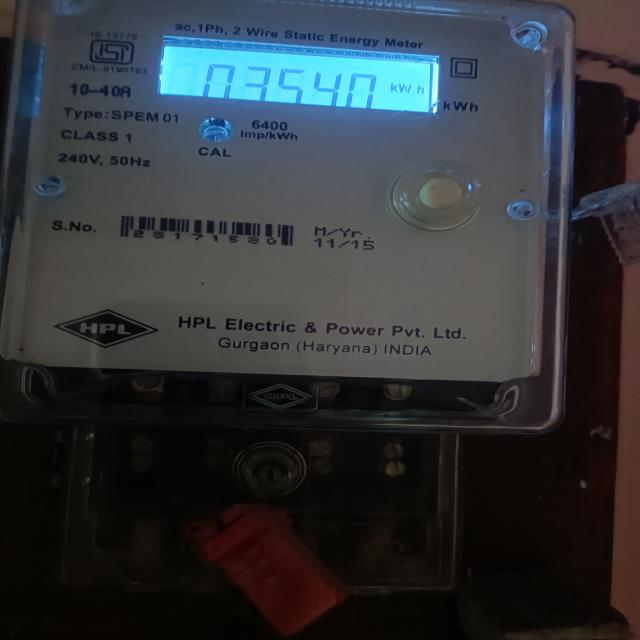display: (159, 44, 437, 120)
